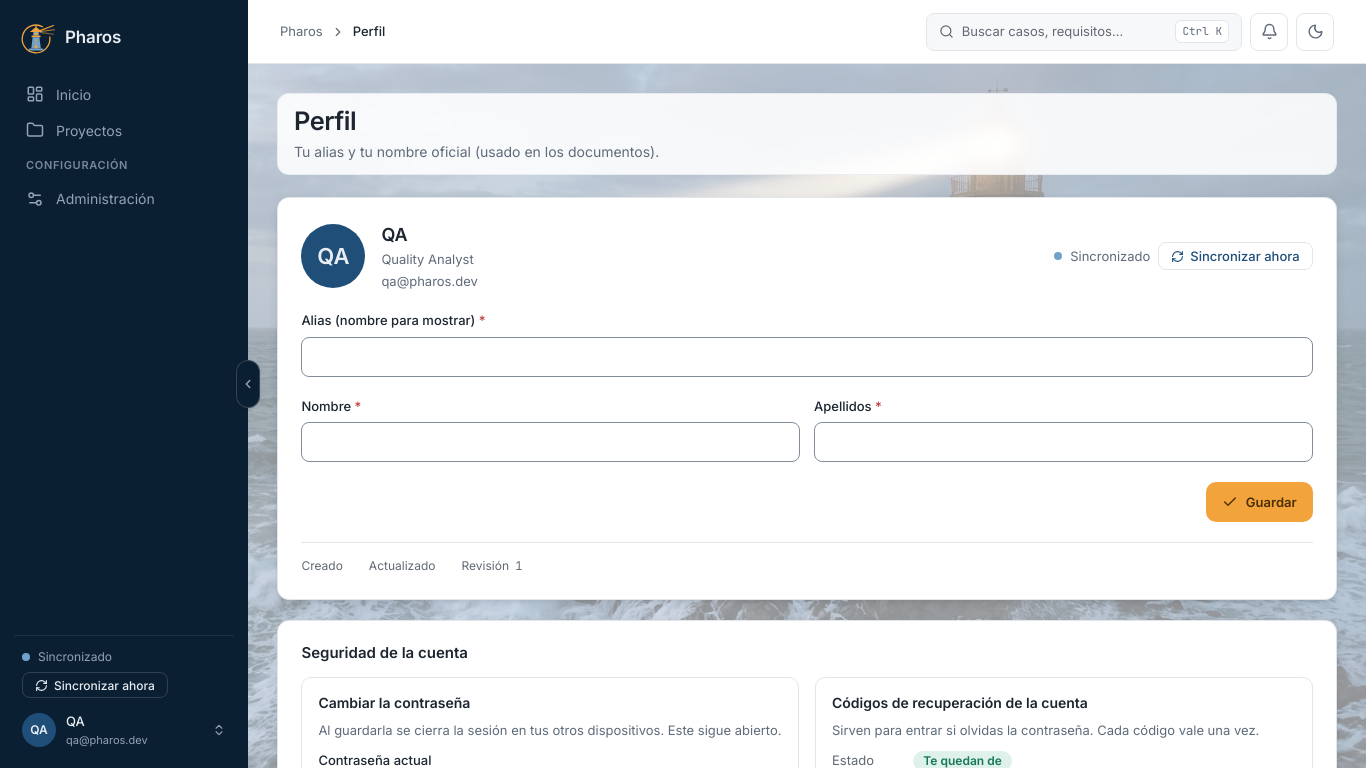
Test: navigation › always opens Inicio after signing in, wherever the last session ended (UX-27)
Check: the heading "Perfil" is shown, box [294, 105, 356, 136]
Click the button with test id "user-menu-trigger": (124, 730) [14, 706, 234, 754]
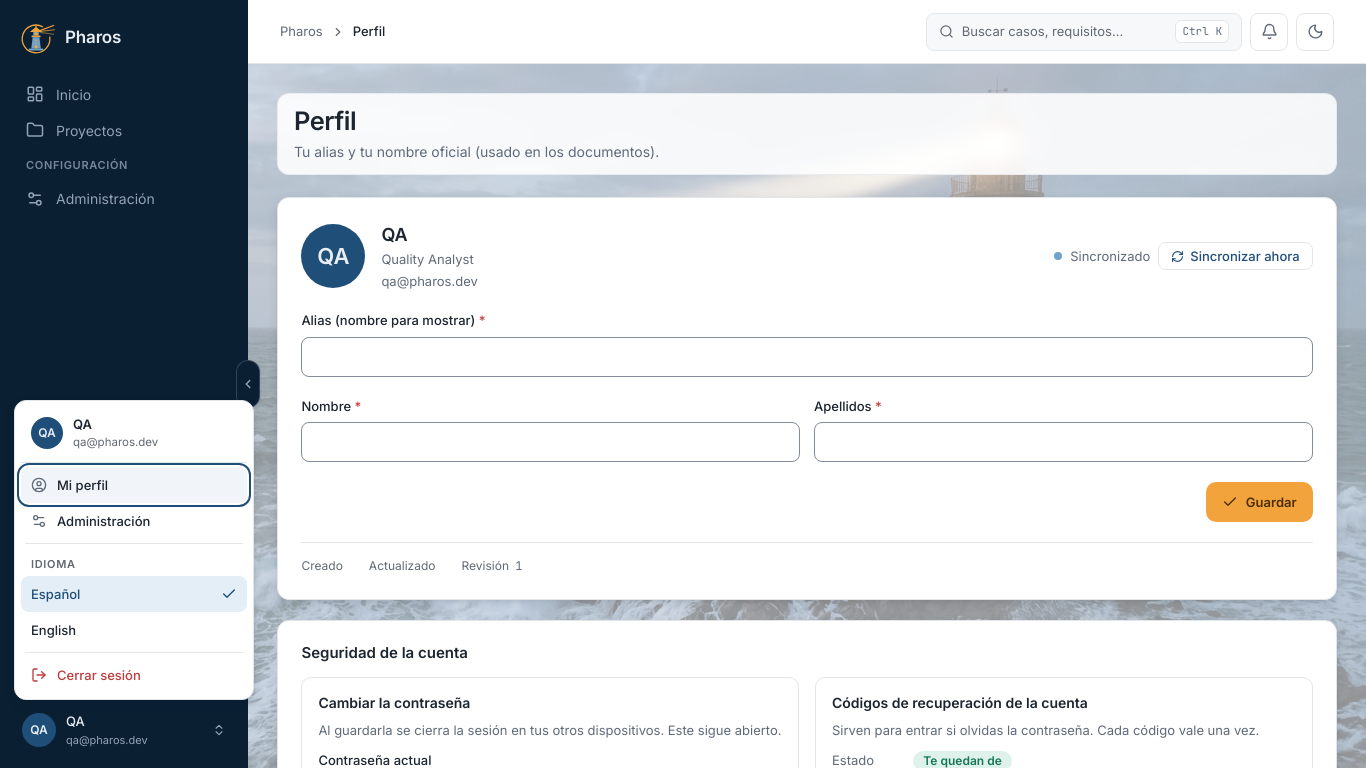
Click the menu item "Cerrar sesión": (134, 675) [21, 657, 247, 693]
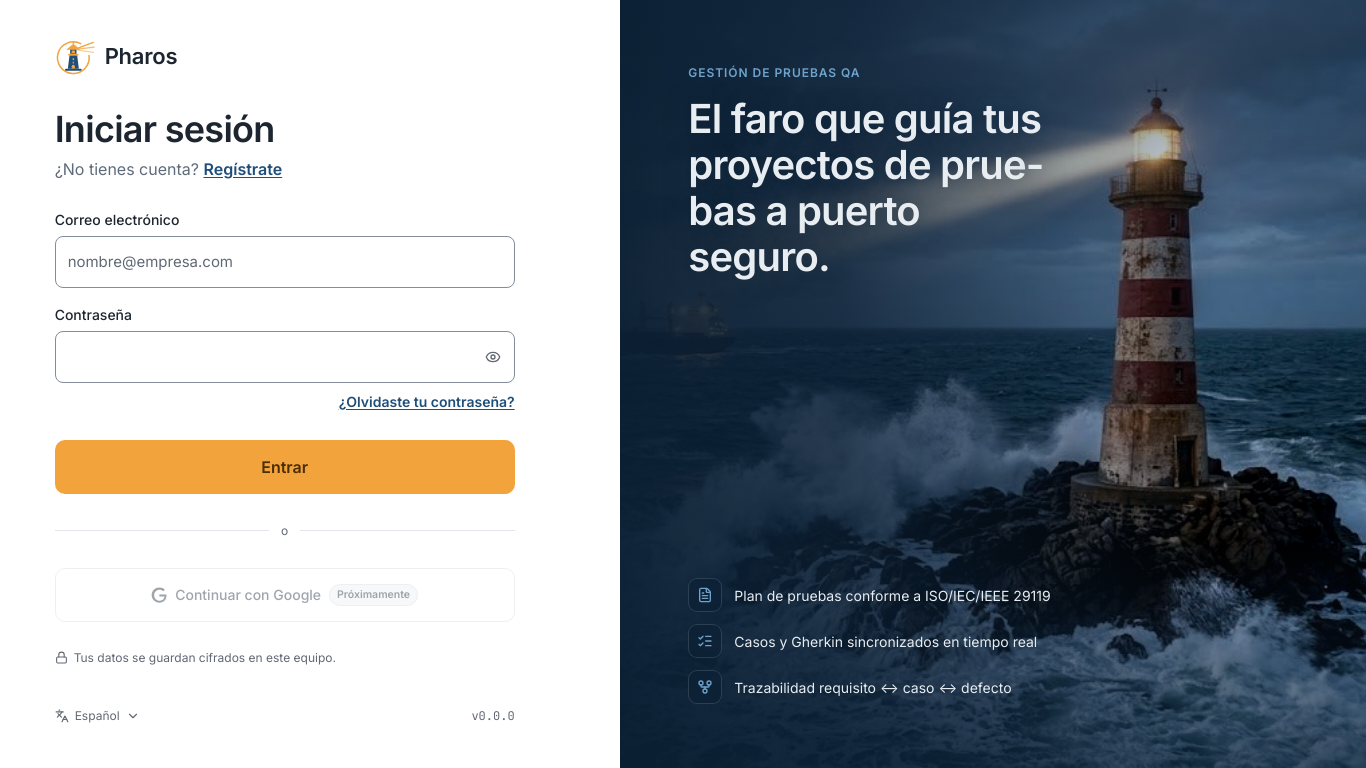
In the field labelled "Correo electrónico": (285, 262) [55, 236, 515, 288], type "qa@pharos.dev"
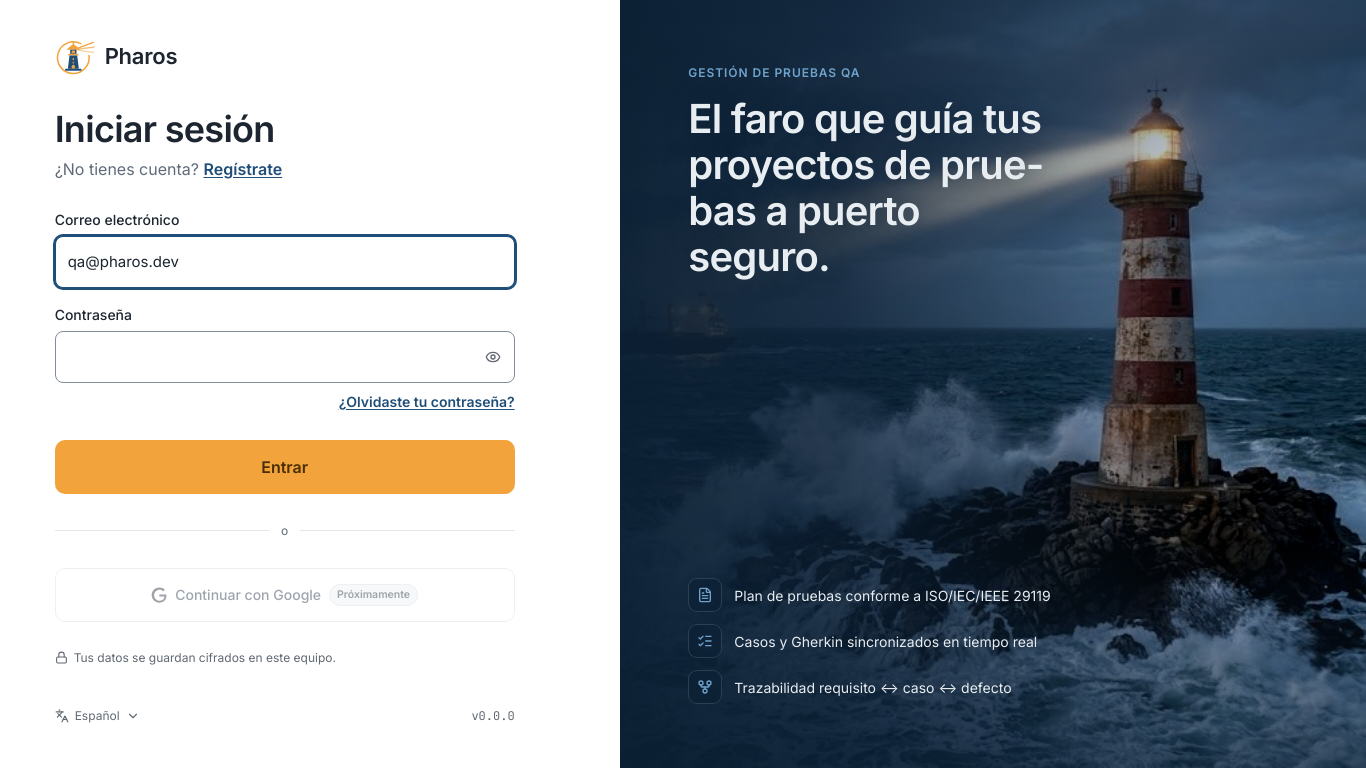
In the password field labelled "Contraseña": (285, 357) [55, 331, 515, 383], type "una-clave-de-prueba"
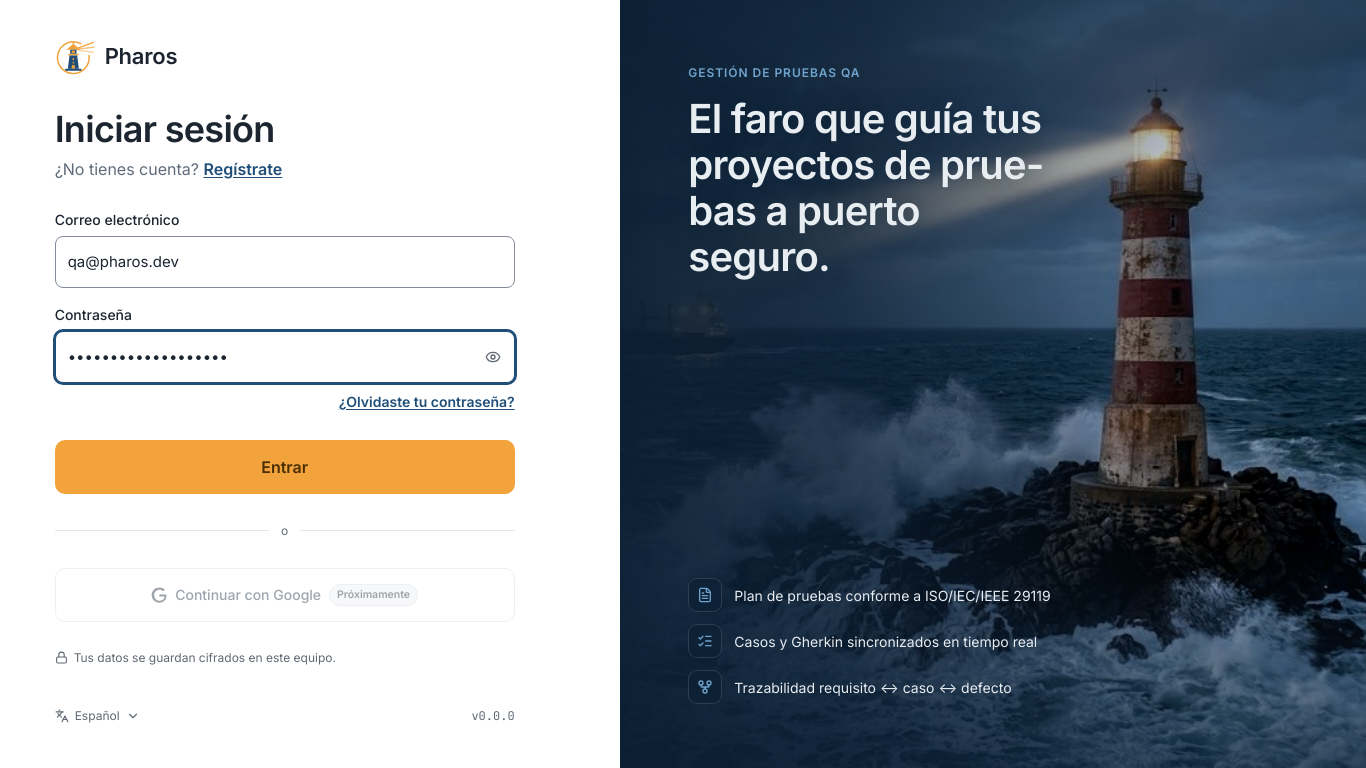
Click the button "Entrar": (285, 467) [55, 440, 515, 494]
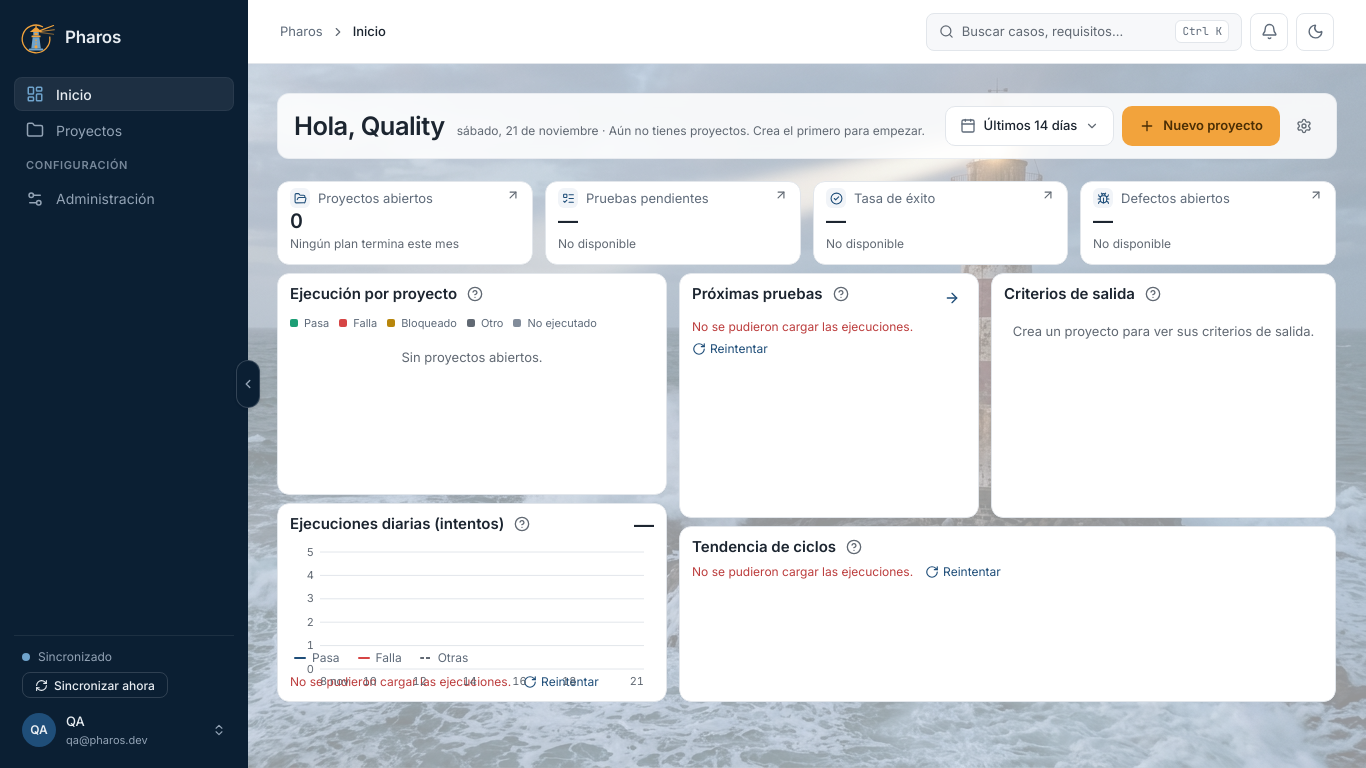
Check: the heading "Hola, Quality" is shown, box [294, 111, 445, 141]
